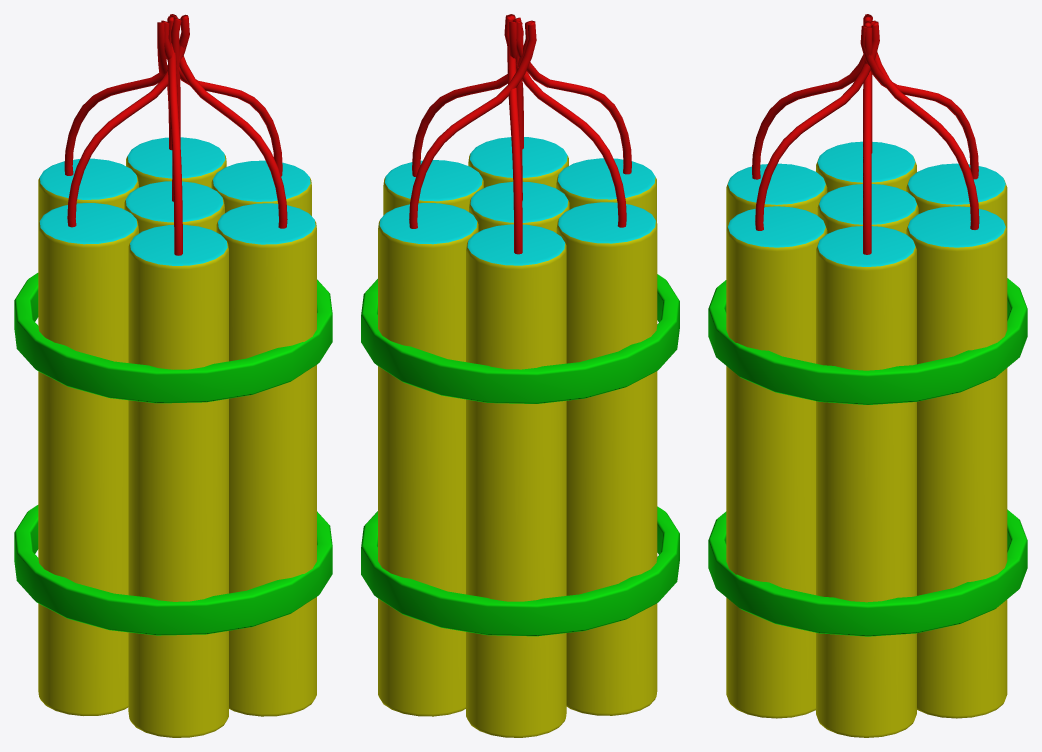
The model's file is Dyanamite.fbx.
The picture shows the model from 3 angles, left to right: view 1: azimuth 30°, elevation 25°; view 2: azimuth 150°, elevation 25°; view 3: azimuth 270°, elevation 25°; orthographic projection.
Parts seen in each view (by area): view 1: Dynamite; view 2: Dynamite; view 3: Dynamite.
Part boxes in pixels (x1=…): Dynamite: x1=14, y1=14, x2=332, y2=737; Dynamite: x1=361, y1=14, x2=679, y2=737; Dynamite: x1=708, y1=14, x2=1027, y2=737.
Bounding box in the file's own units: 26.42 × 59.77 × 26.42.
